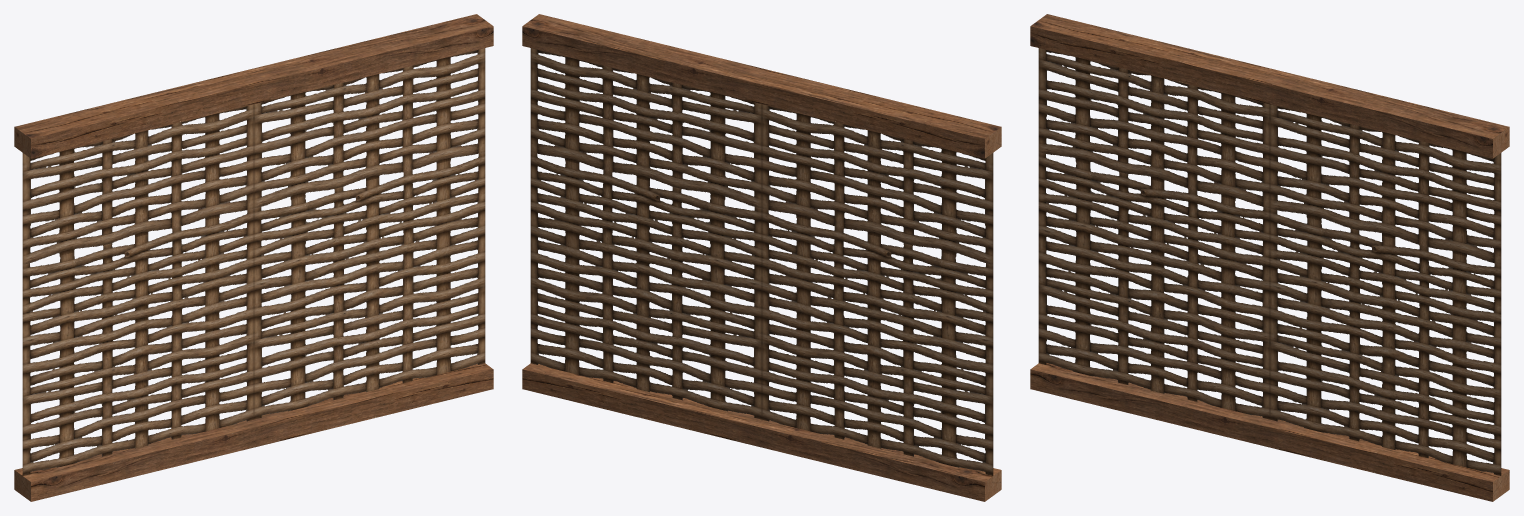
The model's file is WattleWall_4.00Wx3.00Hx0.25D.fbx.
The picture shows the model from 3 angles, left to right: view 1: azimuth 30°, elevation 25°; view 2: azimuth 150°, elevation 25°; view 3: azimuth 330°, elevation 25°; orthographic projection.
Visible parts, largest first — view 1: Modular_WattleWall_Export; view 2: Modular_WattleWall_Export; view 3: Modular_WattleWall_Export.
Boxes of the visible parts, x1,y1,x2,y2 form: Modular_WattleWall_Export: (14, 14, 493, 501); Modular_WattleWall_Export: (522, 14, 1001, 501); Modular_WattleWall_Export: (1030, 14, 1509, 501).
Bounding box in the file's own units: 4 × 3 × 0.25.
